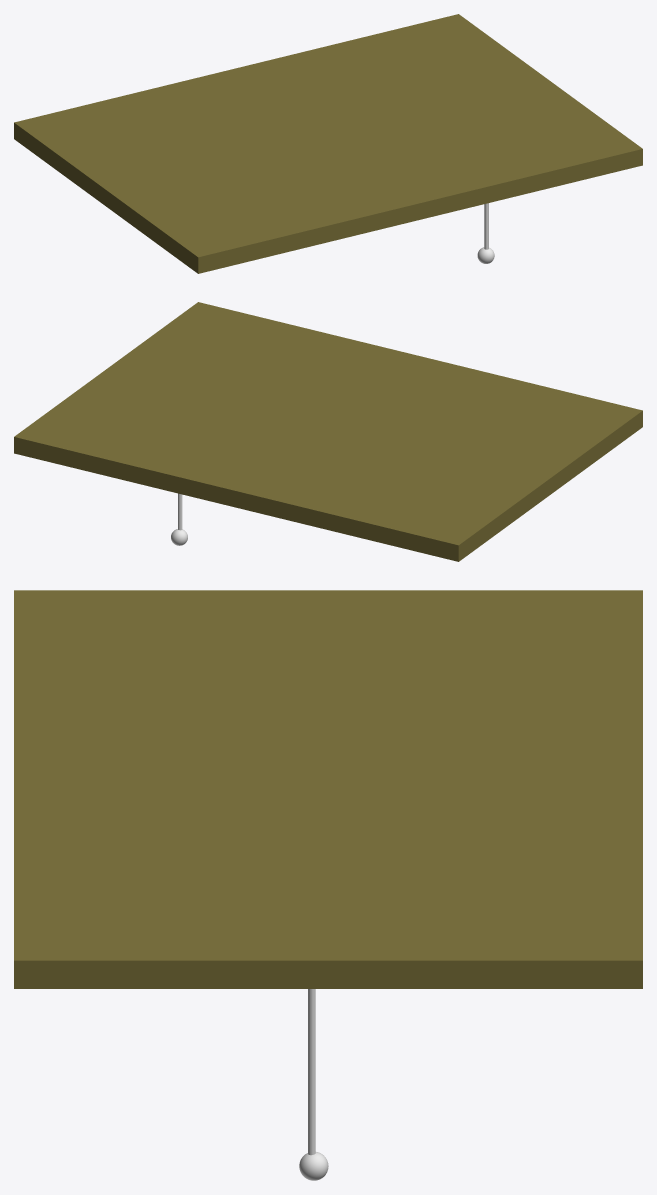
Rendered from structure_maison_trappe.fbx.
The picture shows the model from 3 angles, top to bottom: view 1: azimuth 30°, elevation 25°; view 2: azimuth 150°, elevation 25°; view 3: azimuth 270°, elevation 25°; orthographic projection. The views are drawn at different scales.
Visible parts, largest first — view 1: Chambre_enfant.001; view 2: Chambre_enfant.001; view 3: Chambre_enfant.001, Cylinder.
Boxes of the visible parts, box(x1,y1,x2,y2) form: Chambre_enfant.001: box(14, 14, 642, 273); Chambre_enfant.001: box(14, 302, 642, 561); Chambre_enfant.001: box(14, 590, 642, 988); Cylinder: box(308, 989, 315, 1155).
Size of the model in its own units: 195 by 67.99 by 140.
